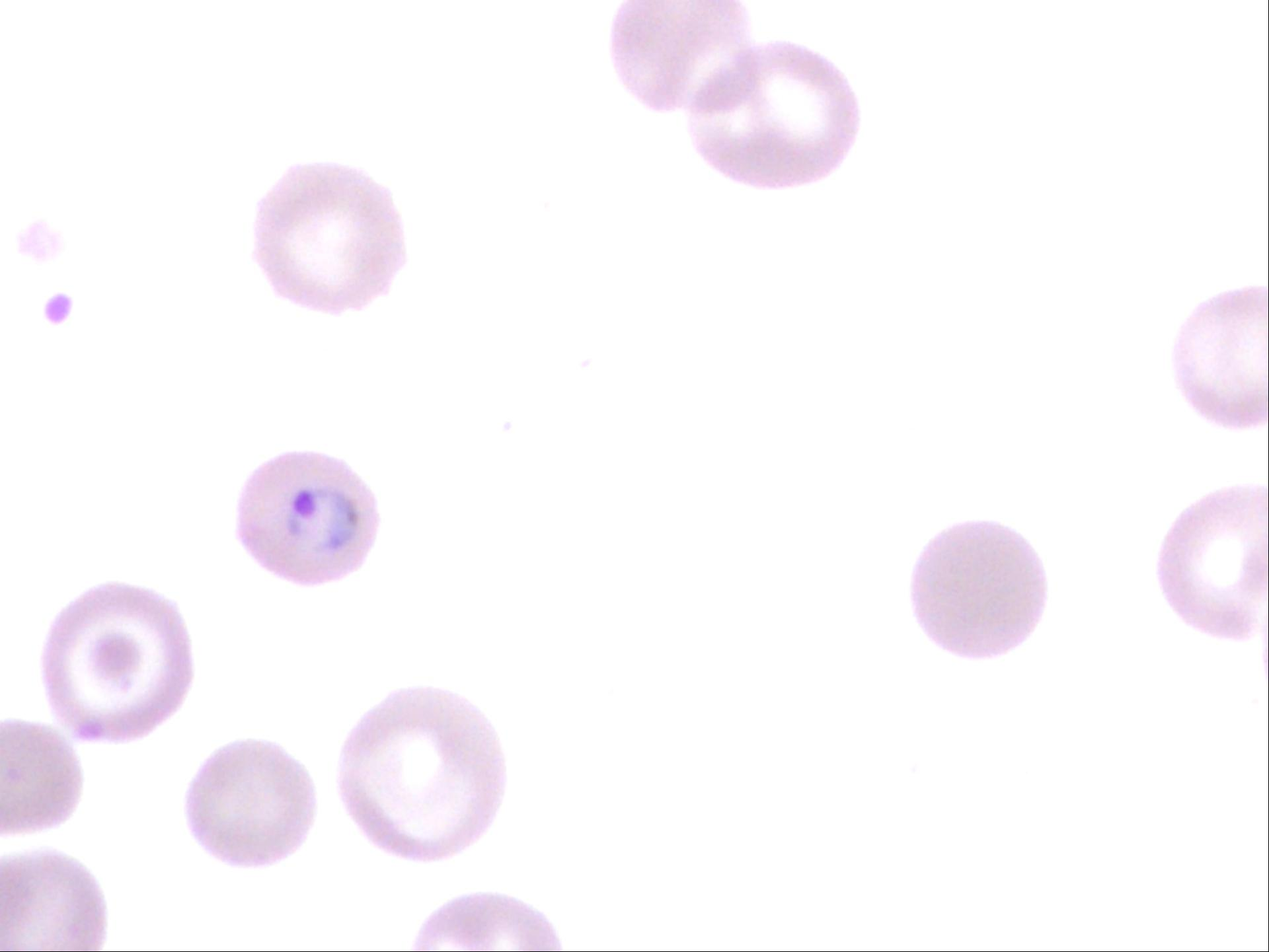Infected: (238, 448, 380, 586)
Uninfected: (335, 681, 499, 858), (690, 40, 859, 191), (40, 584, 191, 746), (251, 157, 408, 310), (1159, 474, 1269, 652), (910, 520, 1055, 655), (181, 743, 323, 876), (610, 0, 758, 122), (1170, 285, 1269, 435), (0, 851, 98, 952)
